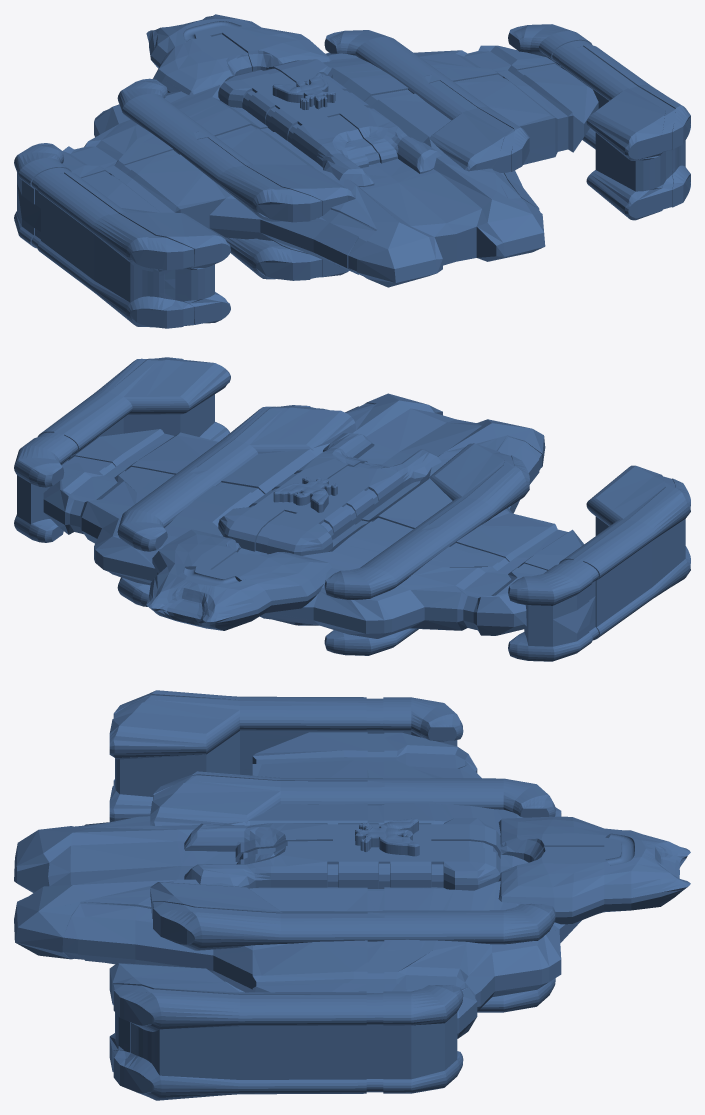
The model's file is ftl-rebel-flagship.glb.
3 views of the same model, one above another, from view 1: azimuth 30°, elevation 25°; view 2: azimuth 150°, elevation 25°; view 3: azimuth 270°, elevation 25° (orthographic). The views are drawn at different scales.
Parts seen in each view (by area): view 1: Rebel-Flagship-3D-Print_fixed; view 2: Rebel-Flagship-3D-Print_fixed; view 3: Rebel-Flagship-3D-Print_fixed.
Boxes of the visible parts, x1=… form: Rebel-Flagship-3D-Print_fixed: x1=14, y1=14, x2=690, y2=328; Rebel-Flagship-3D-Print_fixed: x1=14, y1=357, x2=690, y2=661; Rebel-Flagship-3D-Print_fixed: x1=14, y1=690, x2=690, y2=1100.
Bounding box in the file's own units: 9.01 × 1.54 × 8.07.
